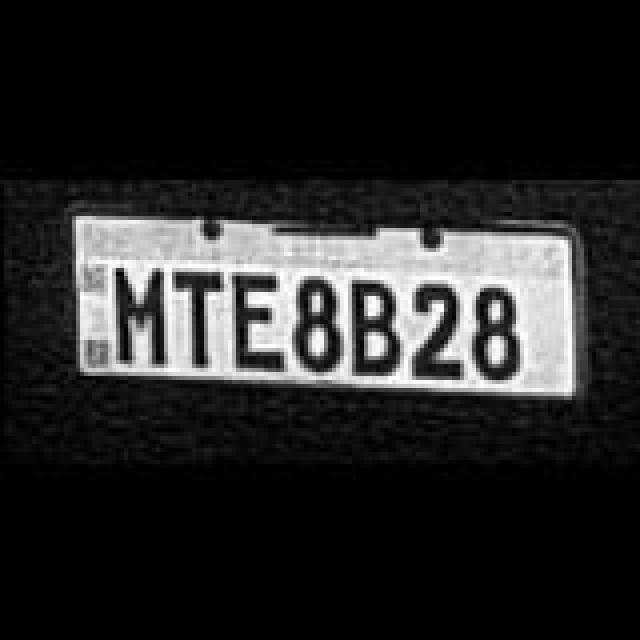2: (414, 278, 466, 378)
8: (470, 284, 522, 380), (296, 274, 344, 374)
B: (352, 274, 400, 374)
E: (234, 270, 286, 370)
M: (114, 262, 166, 362)
T: (174, 266, 226, 366)
